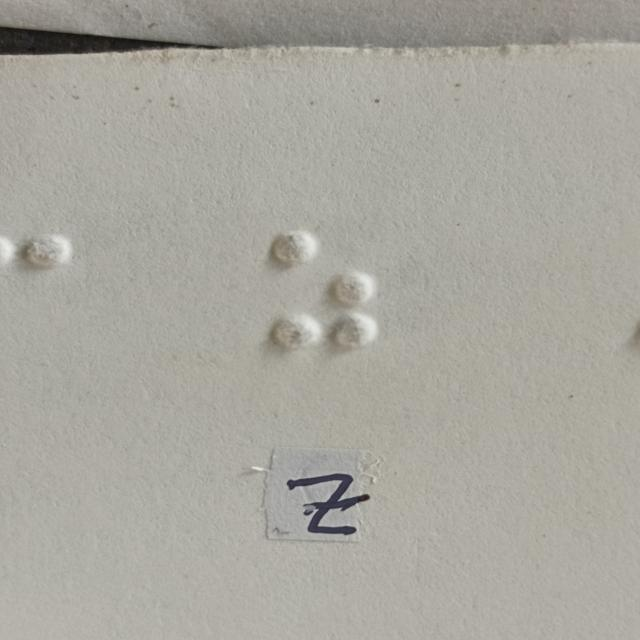letter_z: (272, 231, 376, 351)
